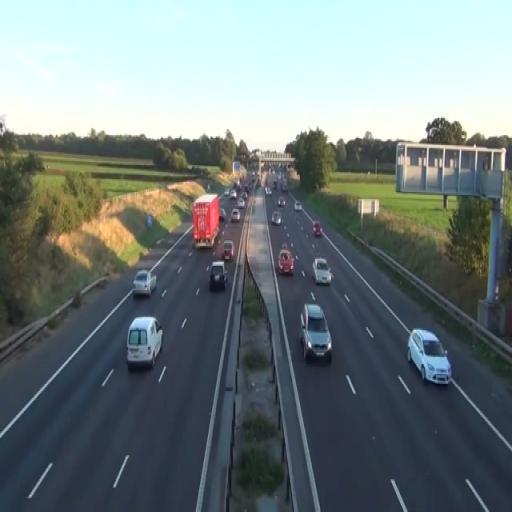Bus: (192, 192, 220, 250)
Car: (407, 328, 452, 386), (126, 316, 163, 370), (300, 302, 332, 364), (132, 269, 158, 298), (312, 257, 332, 286), (209, 262, 228, 292), (278, 247, 294, 276), (223, 240, 235, 261), (230, 208, 240, 222), (272, 210, 281, 225)
Truck: (192, 194, 220, 250)
